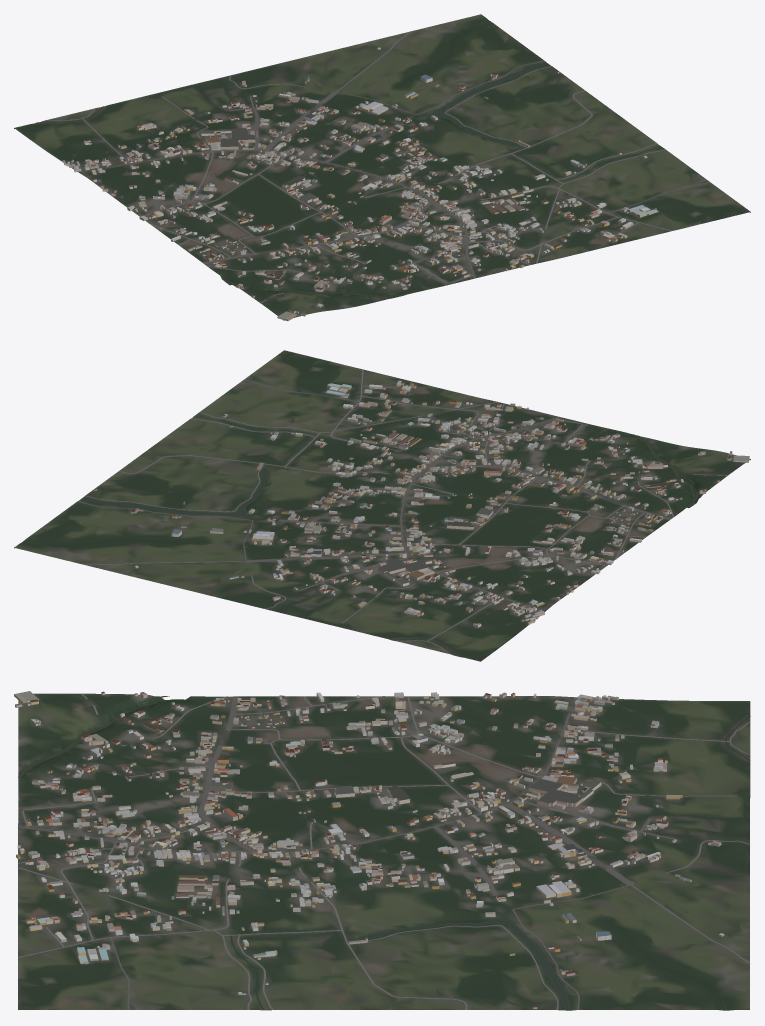
3 renders of one model, top to bottom at view 1: azimuth 30°, elevation 25°; view 2: azimuth 150°, elevation 25°; view 3: azimuth 270°, elevation 25°, orthographic. The views are drawn at different scales.
Parts seen in each view (by area): view 1: ground, buildings, roads, water; view 2: ground, buildings, roads, water; view 3: ground, buildings, roads, water.
Boxes of the visible parts, left/top/right/bottom form: ground: left=14, top=14, right=750, bottom=320; buildings: left=62, top=47, right=658, bottom=320; roads: left=45, top=31, right=709, bottom=303; water: left=36, top=21, right=660, bottom=297; ground: left=14, top=350, right=750, bottom=661; buildings: left=94, top=380, right=749, bottom=627; roads: left=77, top=369, right=727, bottom=653; water: left=23, top=416, right=697, bottom=656; ground: left=18, top=693, right=750, bottom=1010; buildings: left=14, top=691, right=724, bottom=1008; roads: left=18, top=693, right=750, bottom=1009; water: left=18, top=696, right=750, bottom=1010.
Bounding box in the file's own units: 1406 × 25.53 × 1410.
